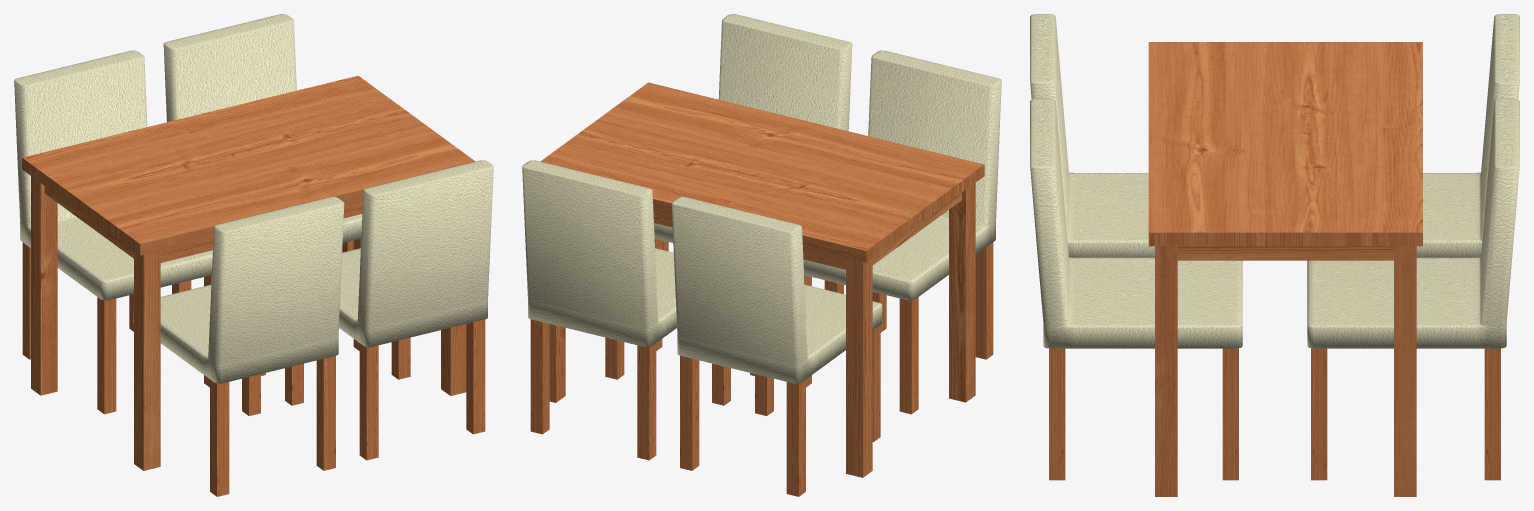
File: Dining Table.fbx
3 renders of one model, left to right at view 1: azimuth 30°, elevation 25°; view 2: azimuth 150°, elevation 25°; view 3: azimuth 270°, elevation 25°, orthographic. The views are drawn at different scales.
Parts seen in each view (by area): view 1: Table, ChairSeat1, ChairSeat2, ChairSeat4, ChairSeat3, ChairLegs2, ChairLegs1, ChairLegs4; view 2: Table, ChairSeat4, ChairSeat3, ChairSeat1, ChairSeat2, ChairLegs4, ChairLegs3, ChairLegs1; view 3: Table, ChairSeat2, ChairSeat3, ChairSeat1, ChairSeat4, ChairLegs2, ChairLegs3.
Part boxes in pixels (box(x1,y1,x2,y2)): Table: box(22, 75, 475, 470); ChairSeat1: box(133, 196, 344, 383); ChairSeat2: box(339, 160, 493, 347); ChairSeat4: box(14, 50, 212, 300); ChairSeat3: box(163, 14, 362, 242); ChairLegs2: box(285, 319, 485, 460); ChairLegs1: box(210, 356, 335, 496); ChairLegs4: box(22, 242, 211, 414); Table: box(540, 82, 984, 477); ChairSeat4: box(671, 196, 882, 383); ChairSeat3: box(522, 160, 676, 347); ChairSeat1: box(803, 50, 1001, 300); ChairSeat2: box(654, 14, 852, 242); ChairLegs4: box(680, 325, 880, 496); ChairLegs3: box(530, 319, 730, 460); ChairLegs1: box(804, 242, 993, 414); Table: box(1148, 42, 1422, 496); ChairSeat2: box(1030, 98, 1242, 348); ChairSeat3: box(1307, 98, 1519, 348); ChairSeat1: box(1030, 14, 1154, 257); ChairSeat4: box(1416, 14, 1519, 257); ChairLegs2: box(1049, 348, 1238, 480); ChairLegs3: box(1311, 348, 1500, 480).
Size of the model in its own units: 120 by 92.36 by 130.
Materials: 2 (2 with a texture image).
